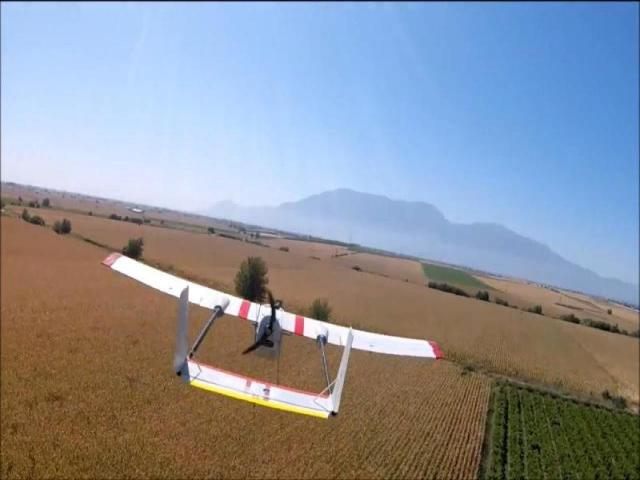hedef: (97, 244, 447, 424)
